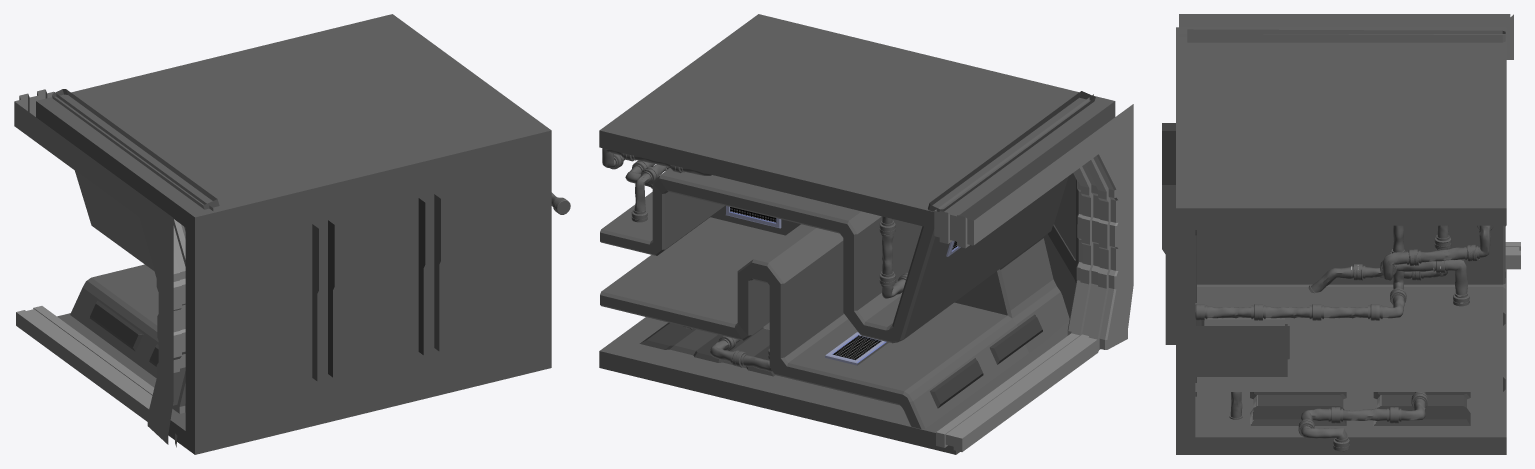
File: Hallway Tube 2.fbx
3 renders of one model, left to right at view 1: azimuth 30°, elevation 25°; view 2: azimuth 150°, elevation 25°; view 3: azimuth 270°, elevation 25°, orthographic. The views are drawn at different scales.
Parts seen in each view (by area): view 1: Hallway Base.003, Transition.003, Tube Base.003, Greable.003, Panel.004; view 2: Hallway Base.003, Tube Base.003, Transition.003, Panel.005, Panel.004, Tubes.017, Tubes.013, Vent.015, Tubes.016, Greable.003, Vent.014; view 3: Hallway Base.003, Tube Base.003, Transition.003, Panel.005, Tubes.017, Tubes.013, Greable.003, Tubes.016.
Part boxes in pixels (left/top/right/bottom): Hallway Base.003: left=36, top=14, right=551, bottom=454; Transition.003: left=14, top=89, right=213, bottom=447; Tube Base.003: left=52, top=89, right=219, bottom=377; Greable.003: left=312, top=194, right=440, bottom=380; Panel.004: left=90, top=301, right=158, bottom=366; Hallway Base.003: left=599, top=14, right=1115, bottom=454; Tube Base.003: left=600, top=91, right=1095, bottom=429; Transition.003: left=934, top=94, right=1133, bottom=451; Panel.005: left=639, top=322, right=774, bottom=376; Panel.004: left=930, top=314, right=1042, bottom=408; Tubes.017: left=602, top=148, right=711, bottom=222; Tubes.013: left=625, top=160, right=907, bottom=298; Vent.015: left=825, top=332, right=888, bottom=365; Tubes.016: left=683, top=326, right=772, bottom=371; Greable.003: left=1048, top=179, right=1078, bottom=282; Vent.014: left=725, top=206, right=781, bottom=228; Hallway Base.003: left=1176, top=27, right=1506, bottom=454; Tube Base.003: left=1187, top=29, right=1505, bottom=391; Transition.003: left=1179, top=14, right=1520, bottom=269; Panel.005: left=1250, top=392, right=1470, bottom=425; Tubes.017: left=1308, top=225, right=1493, bottom=306; Tubes.013: left=1195, top=225, right=1406, bottom=320; Greable.003: left=1162, top=123, right=1204, bottom=396; Tubes.016: left=1298, top=392, right=1427, bottom=451.
Size of what is drawn, in the model's own units: 2500 by 1444 by 1845.
